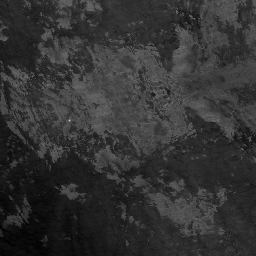Target: (67, 118, 72, 122)
